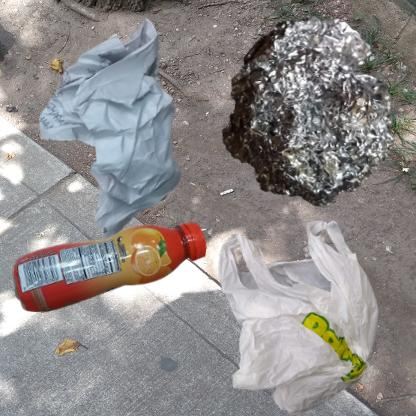aluminio: (213, 10, 400, 216)
bolsa: (213, 213, 395, 416)
botella: (10, 213, 213, 323)
papel: (10, 10, 271, 293)
